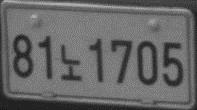0: (136, 40, 159, 86)
1: (87, 36, 104, 84), (37, 33, 54, 80)
5: (161, 41, 184, 87)
7: (108, 38, 133, 85)
8: (10, 32, 34, 77)
노: (58, 43, 83, 82)
